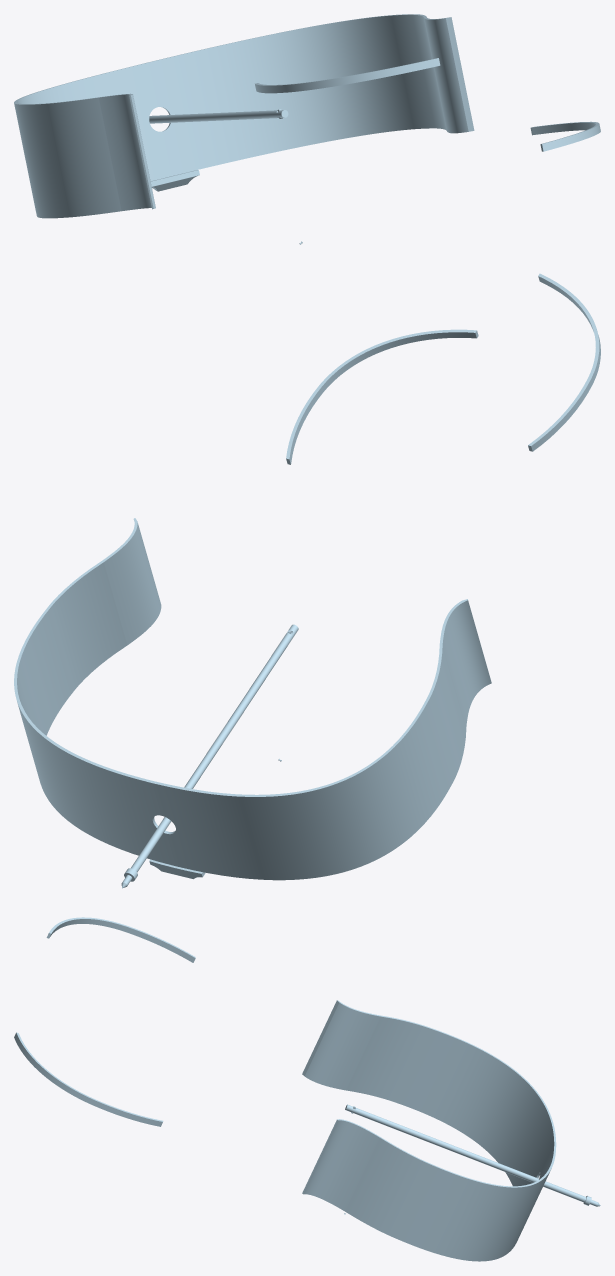
3 renders of one model, top to bottom at view 1: azimuth 30°, elevation 25°; view 2: azimuth 150°, elevation 25°; view 3: azimuth 270°, elevation 25°, orthographic. The views are drawn at different scales.
Bounding box in the file's own units: 0.438 × 0.4131 × 0.7897.
